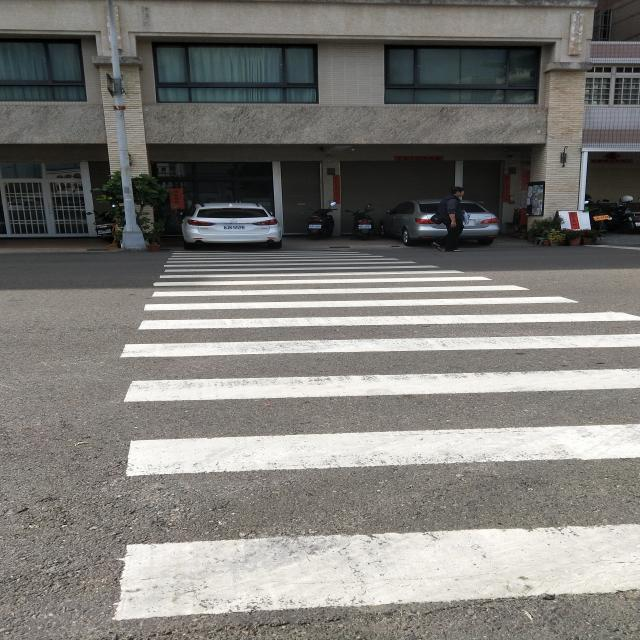person: (433, 186, 464, 251)
zebra crossing: (129, 254, 640, 619)
